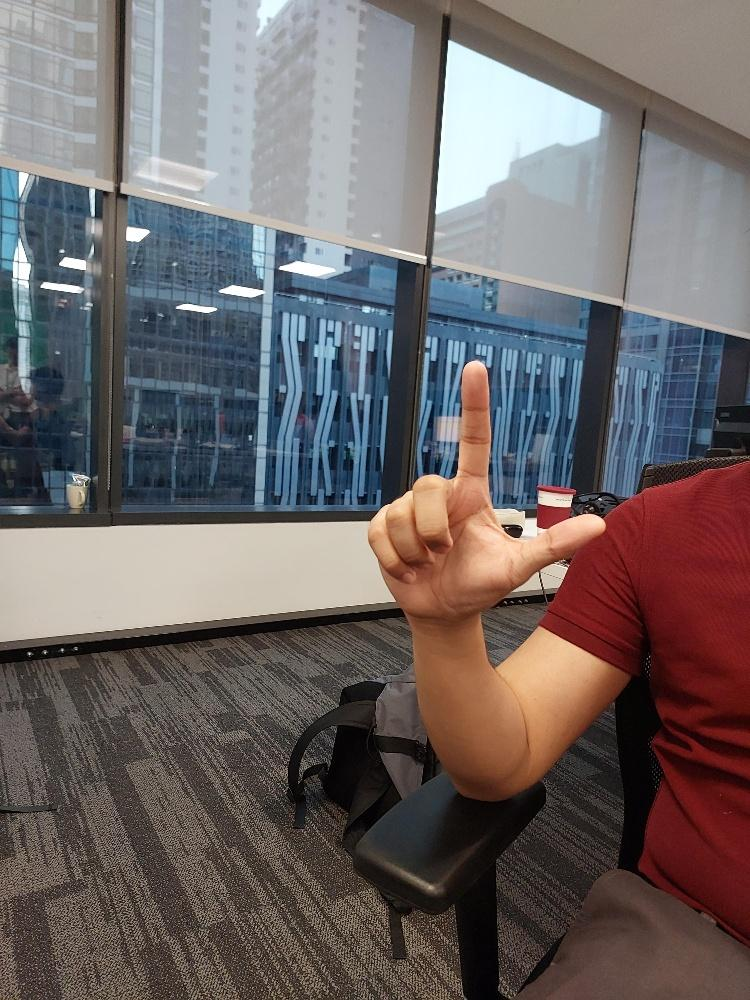l: (363, 356, 610, 624)
